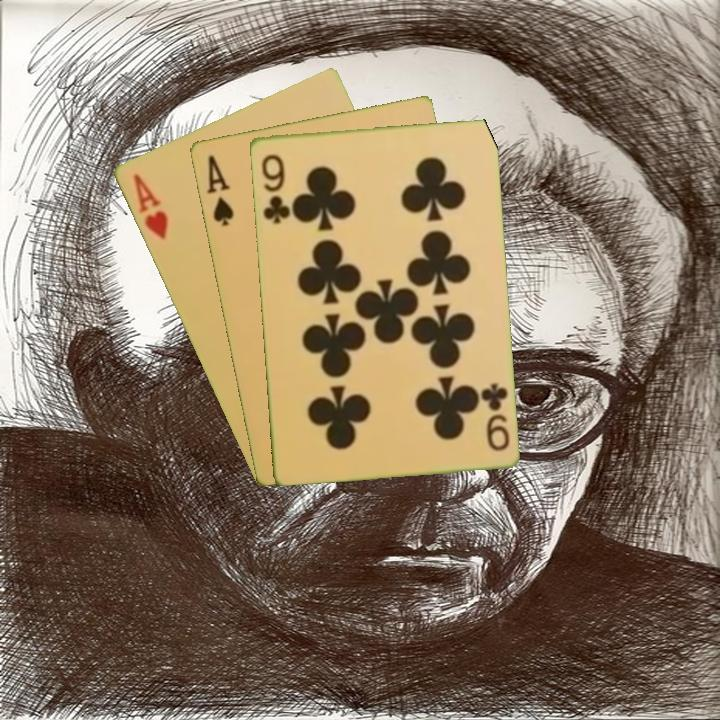9c: (476, 379, 512, 454), (257, 150, 292, 226)
Ah: (129, 170, 171, 243)
As: (202, 151, 236, 229)
